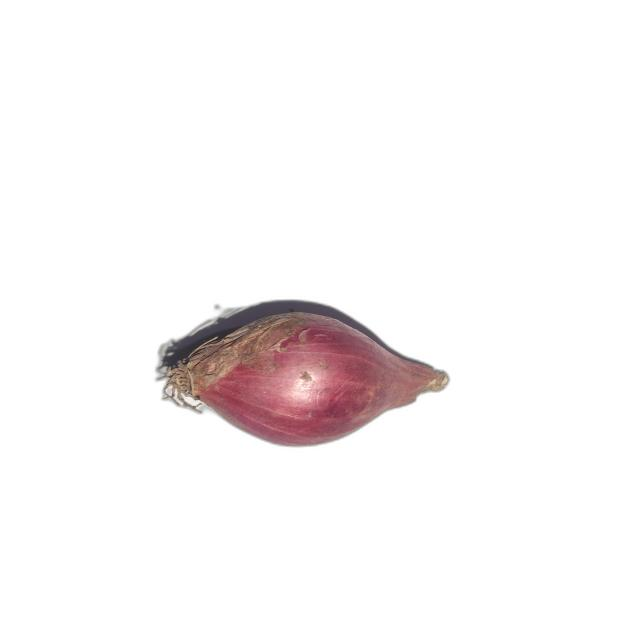onion: (162, 312, 450, 447)
